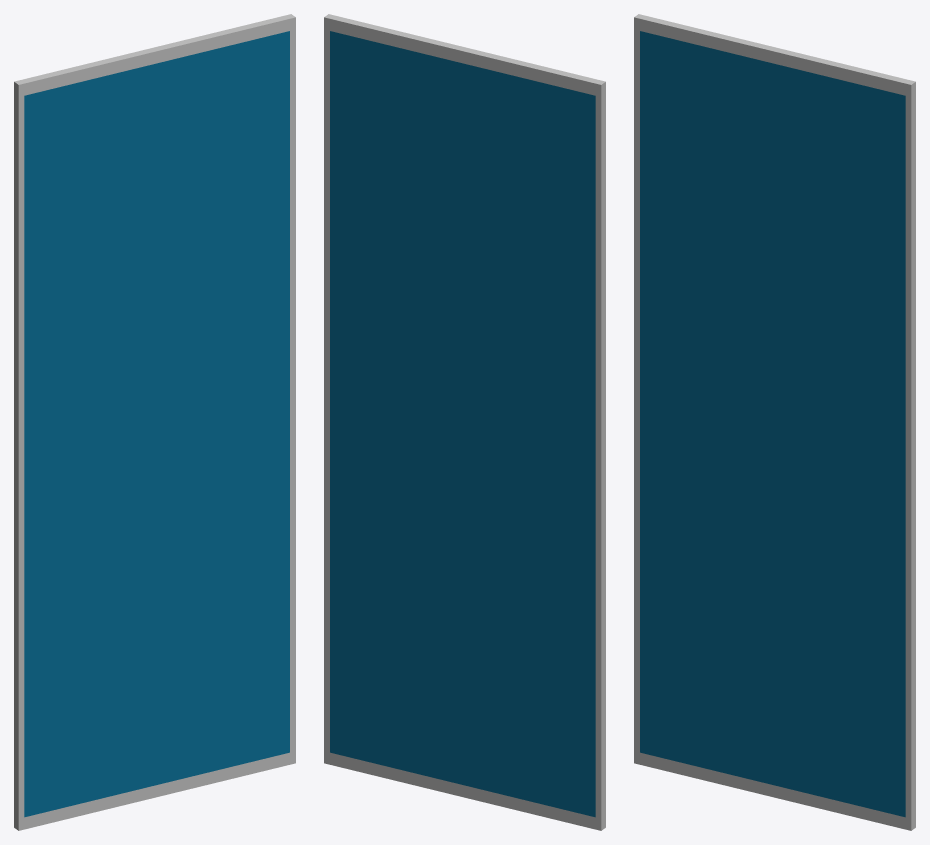
Rendered from PTABANIO.fbx.
The picture shows the model from 3 angles, left to right: view 1: azimuth 30°, elevation 25°; view 2: azimuth 150°, elevation 25°; view 3: azimuth 330°, elevation 25°; orthographic projection.
Parts seen in each view (by area): view 1: PTABANIO; view 2: PTABANIO; view 3: PTABANIO.
Part boxes in pixels (box(x1,y1,x2,y2)): PTABANIO: box(14, 14, 295, 830); PTABANIO: box(324, 14, 605, 830); PTABANIO: box(634, 14, 915, 830).
Size of the model in its own units: 70 by 180 by 2.
